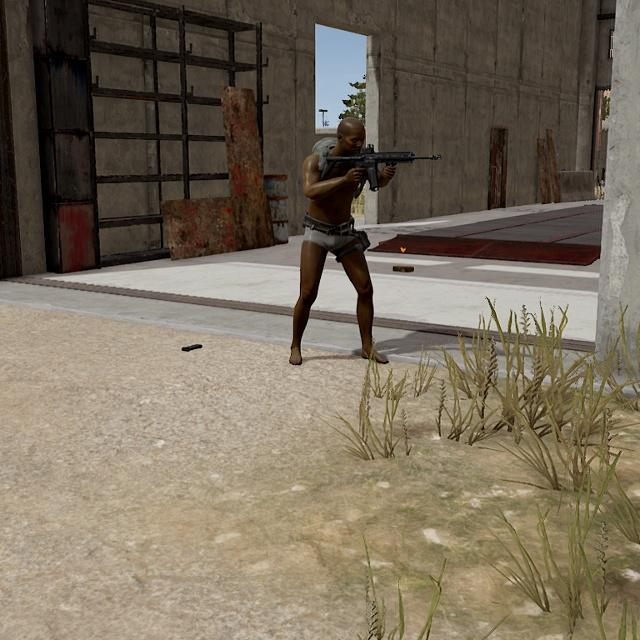head: (335, 116, 368, 157)
people: (287, 116, 392, 366)
